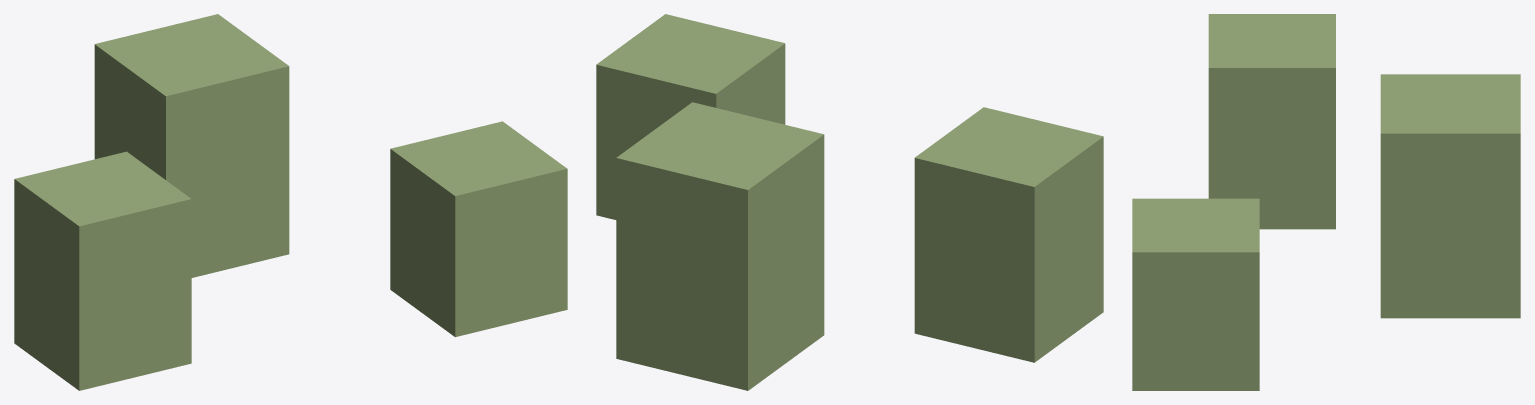
Rendered from fanqing_grass_cut.glb.
3 renders of one model, left to right at view 1: azimuth 30°, elevation 25°; view 2: azimuth 150°, elevation 25°; view 3: azimuth 270°, elevation 25°, orthographic. The views are drawn at different scales.
Visible parts, largest first — view 1: fanqing_grass_cut; view 2: fanqing_grass_cut; view 3: fanqing_grass_cut.
Boxes of the visible parts, x1,y1,x2,y2 form: fanqing_grass_cut: [14, 14, 567, 390]; fanqing_grass_cut: [596, 14, 1103, 390]; fanqing_grass_cut: [1132, 14, 1520, 390].
Bounding box in the file's own units: 0.4 × 0.16 × 0.305.
1 material, 1 textured.
